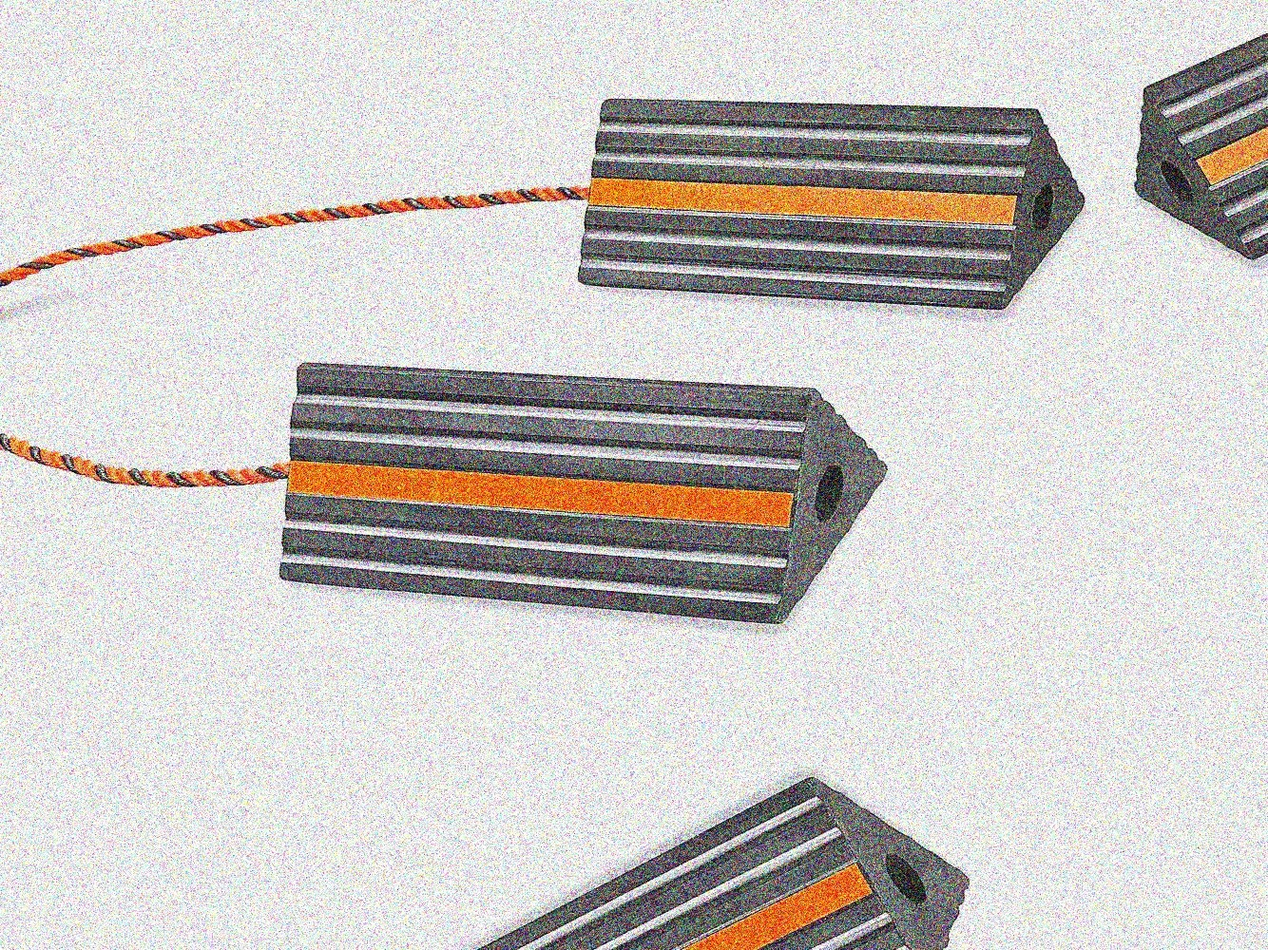chock: (237, 251, 921, 723), (540, 9, 1106, 395), (335, 745, 1019, 950)
